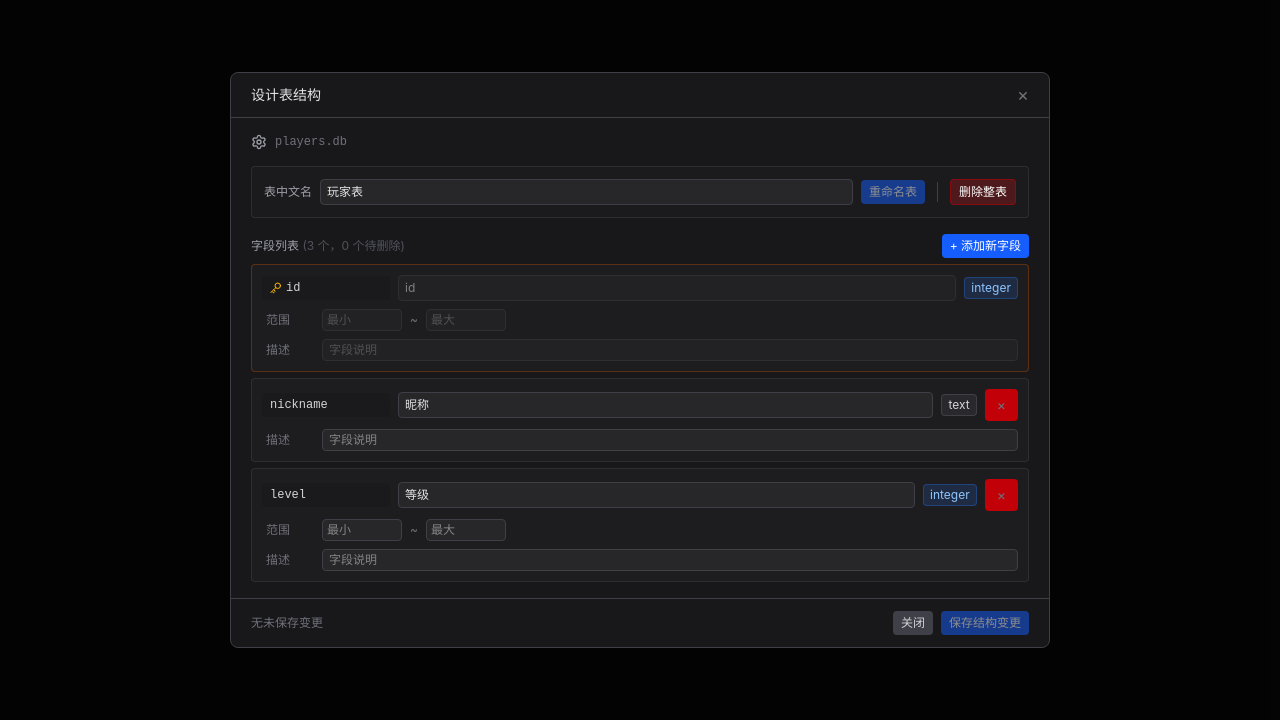
TableDesignModal - 保存结构变更 › alterTable 失败显示错误信息
The image size is (1280, 720).
Click the button titled "删除字段" next to "text" at (1001, 405), box [985, 389, 1018, 421]
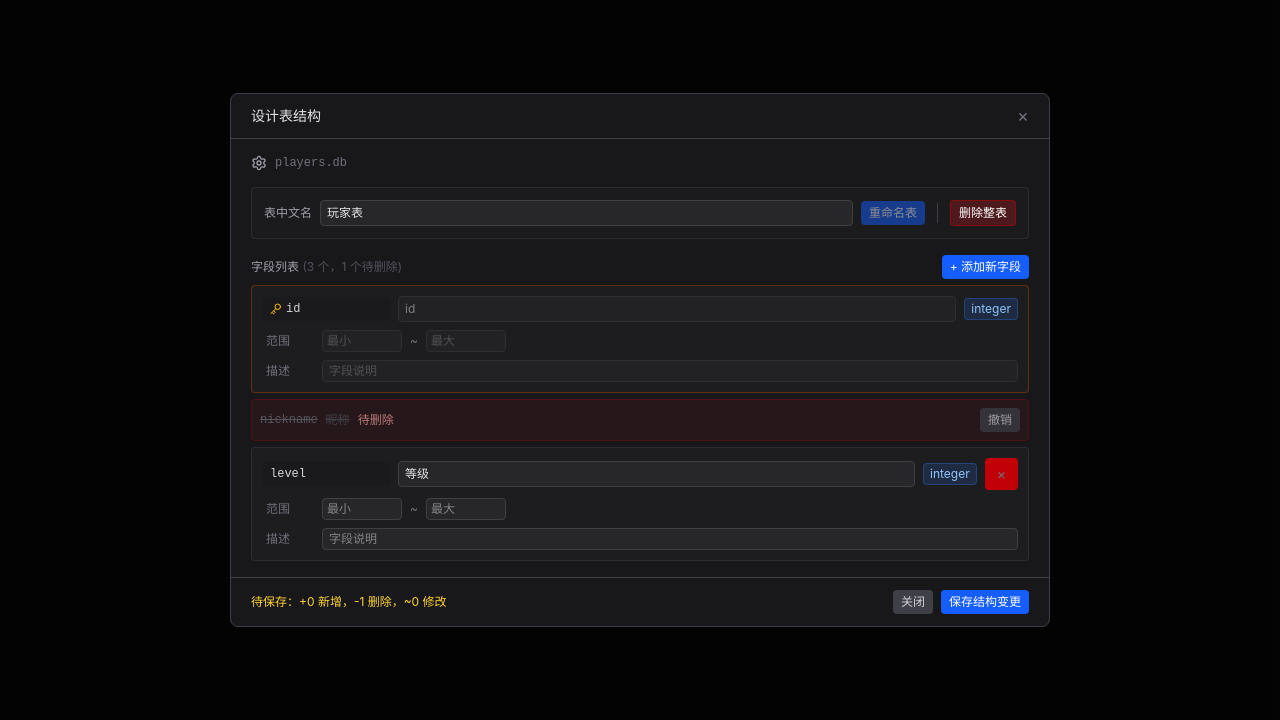
Click the button "保存结构变更" at (985, 602), box [941, 590, 1029, 614]
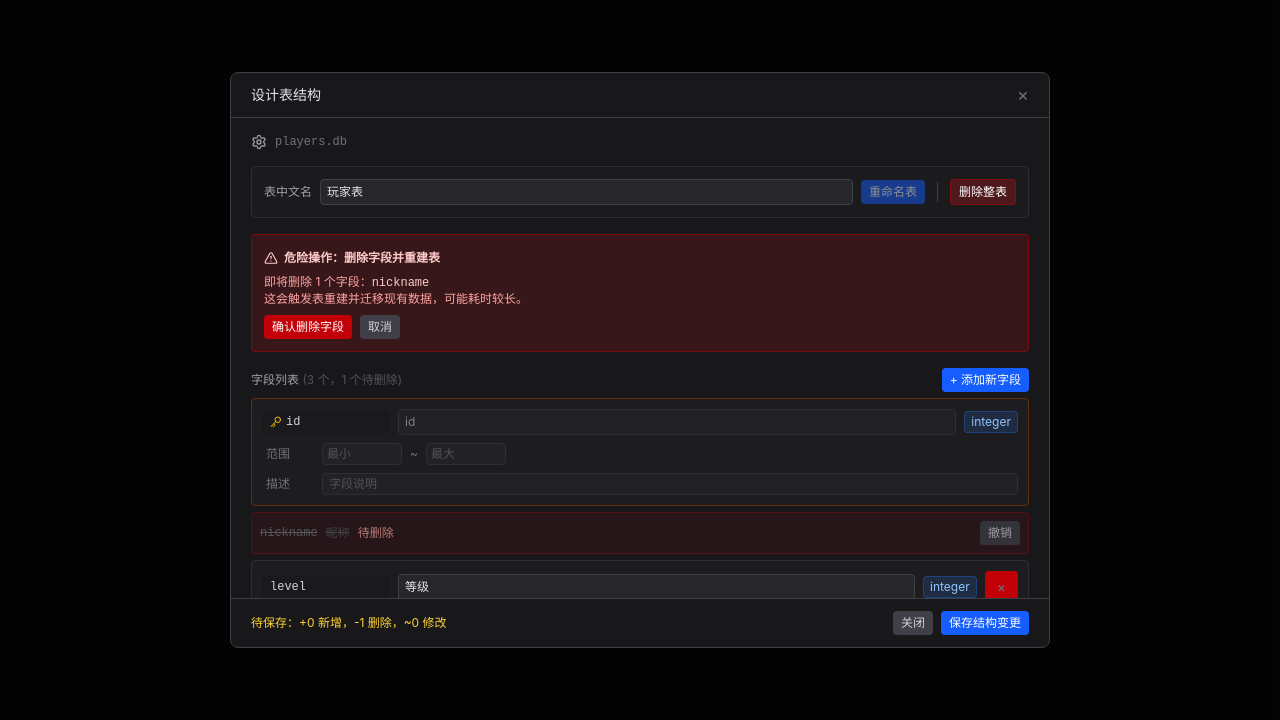
Expected: the button "确认删除字段" is shown
Click the button "确认删除字段" at (308, 327), box [264, 315, 352, 339]
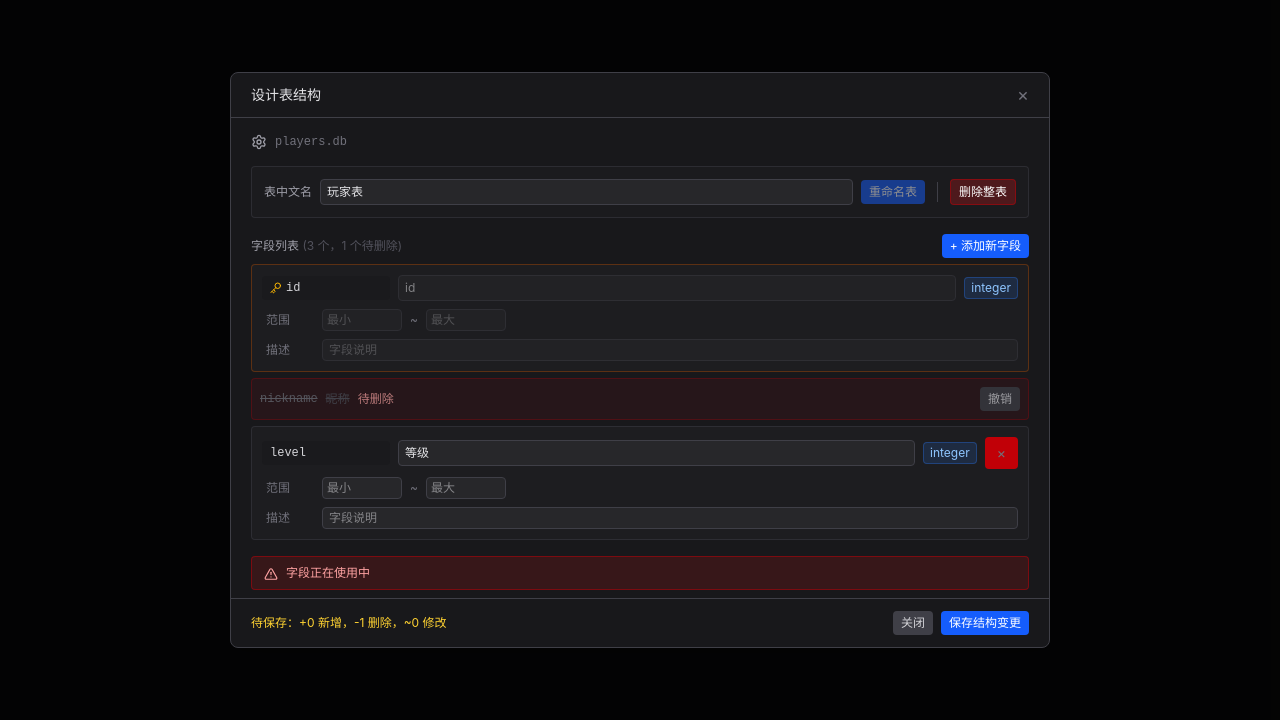
Expected: the text "字段正在使用中" is shown, [286, 565, 370, 581]
